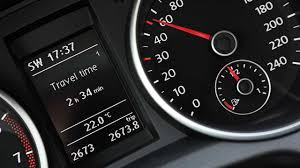Digital_Meter: (67, 87, 138, 165)
